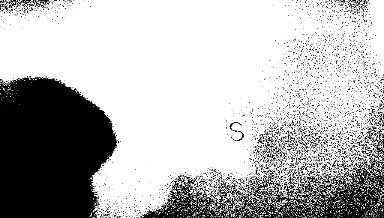S: (226, 119, 245, 142)
